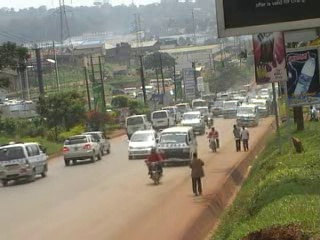Car: (58, 134, 106, 168), (124, 127, 161, 161), (81, 128, 115, 157), (177, 110, 205, 136), (209, 100, 227, 118)
Motorcycle: (143, 147, 167, 187), (205, 126, 223, 153), (203, 109, 215, 128)
